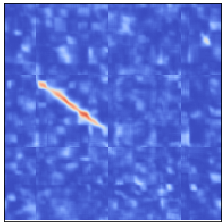action_path: (33, 75, 107, 149)
